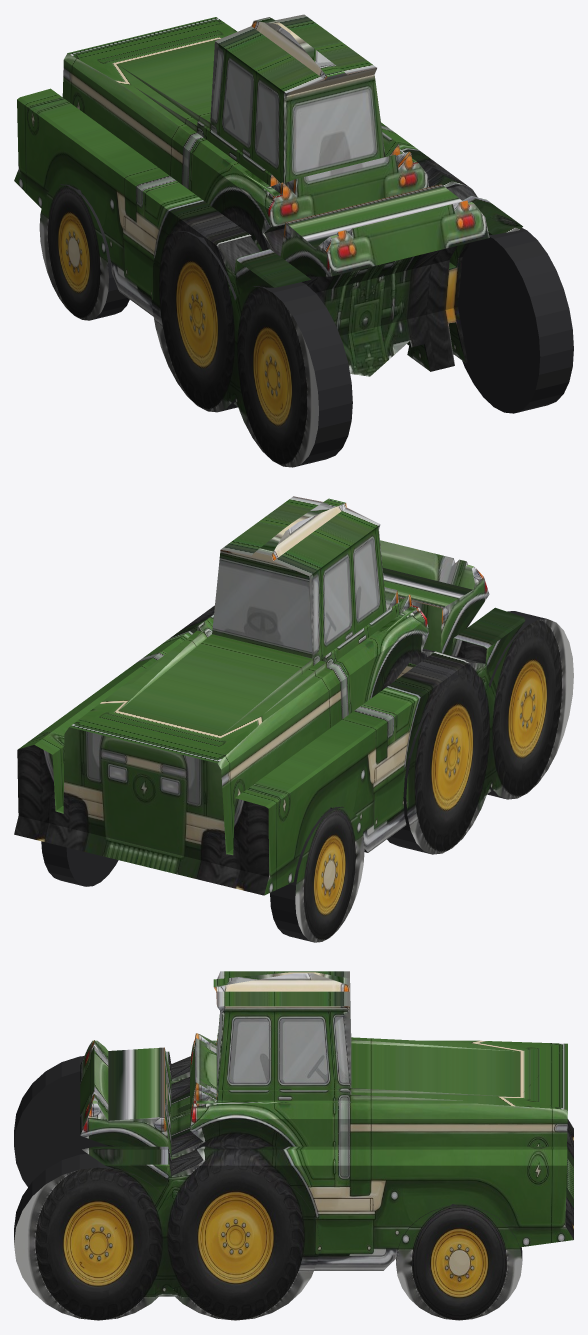
Rendered from row_crop_tractor.glb.
The picture shows the model from 3 angles, top to bottom: view 1: azimuth 30°, elevation 25°; view 2: azimuth 150°, elevation 25°; view 3: azimuth 270°, elevation 25°; orthographic projection. The views are drawn at different scales.
Visible parts, largest first — view 1: row_crop_tractor, wheel_BL, wheel_BR, wheel_M1L, wheel_FL; view 2: row_crop_tractor, wheel_BL, wheel_M1L, wheel_FL, wheel_FR; view 3: row_crop_tractor, wheel_BR, wheel_M1R, wheel_FR, wheel_BL.
Part boxes in pixels (x1,y1,x2,y2): row_crop_tractor: (14, 14, 522, 406); wheel_BL: (227, 282, 352, 467); wheel_BR: (460, 228, 573, 413); wheel_M1L: (151, 231, 243, 412); wheel_FL: (39, 184, 129, 320); row_crop_tractor: (14, 496, 525, 895); wheel_BL: (481, 611, 573, 799); wheel_M1L: (387, 673, 497, 854); wheel_FL: (270, 806, 364, 942); wheel_FR: (41, 841, 118, 886); row_crop_tractor: (80, 971, 573, 1296); wheel_BR: (14, 1153, 182, 1320); wheel_M1R: (151, 1165, 319, 1320); wheel_FR: (396, 1204, 522, 1320); wheel_BL: (14, 1056, 109, 1187).
Bounding box in the file's own units: 2.97 × 3.57 × 6.23.
Materials: 3 (1 with a texture image).
